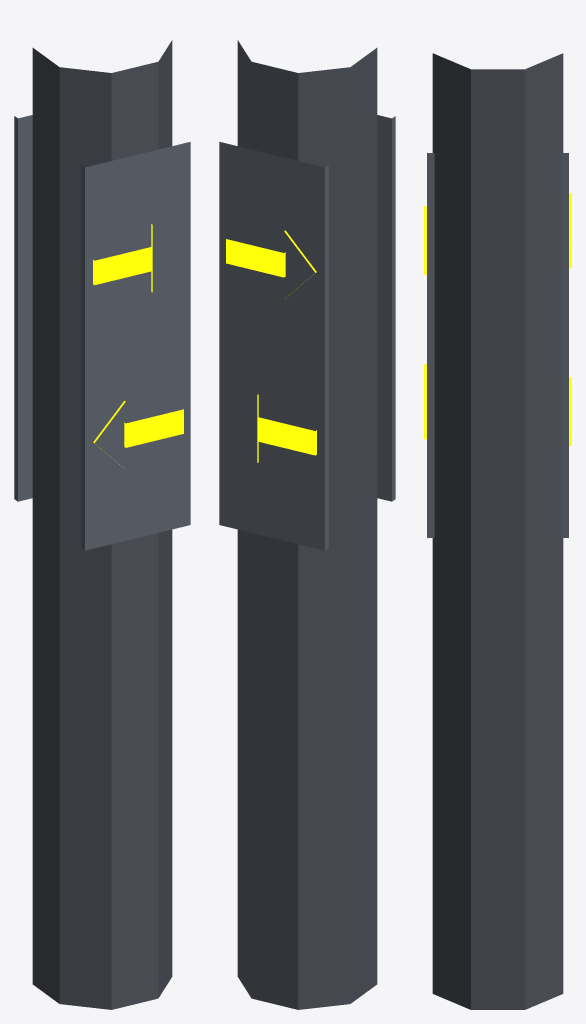
File: ext_wayfinding_totem_04.glb
The picture shows the model from 3 angles, left to right: view 1: azimuth 30°, elevation 25°; view 2: azimuth 150°, elevation 25°; view 3: azimuth 270°, elevation 25°; orthographic projection.
Parts seen in each view (by area): view 1: Column, Sign_Faces, Arrows; view 2: Column, Sign_Faces, Arrows; view 3: Column, Sign_Faces, Arrows.
Part boxes in pixels (<box>): Column: <box>32,40,172,1009</box>; Sign_Faces: <box>14,115,190,550</box>; Arrows: <box>93,224,183,466</box>; Column: <box>237,40,377,1009</box>; Sign_Faces: <box>219,115,395,550</box>; Arrows: <box>226,230,316,462</box>; Column: <box>432,53,563,1009</box>; Sign_Faces: <box>427,153,568,537</box>; Arrows: <box>424,193,571,445</box>.
Size of the model in its own units: 0.2772 by 2.2 by 0.3132.
